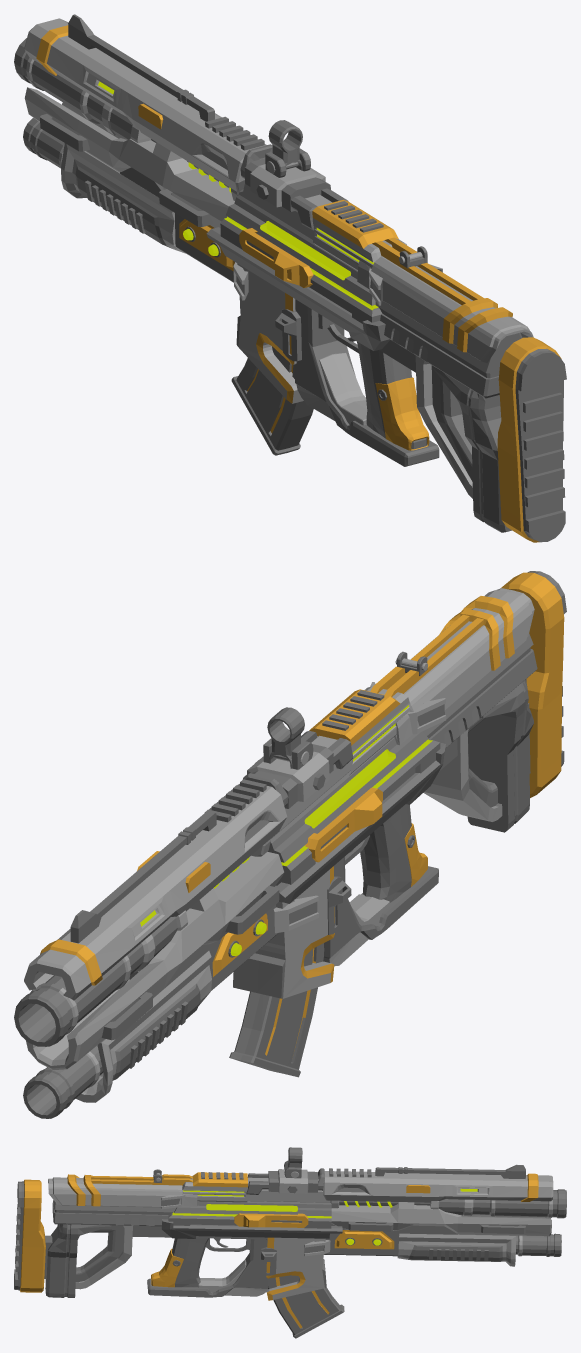
File: remake_215.glb
The picture shows the model from 3 angles, top to bottom: view 1: azimuth 30°, elevation 25°; view 2: azimuth 150°, elevation 25°; view 3: azimuth 270°, elevation 25°; orthographic projection. The views are drawn at different scales.
Visible parts, largest first — view 1: remake_215; view 2: remake_215; view 3: remake_215.
Part boxes in pixels (x1,y1,x2,y2): remake_215: [14, 14, 566, 542]; remake_215: [14, 571, 566, 1118]; remake_215: [14, 1147, 566, 1338].
Bounding box in the file's own units: 0.16 × 0.5263 × 1.41.
